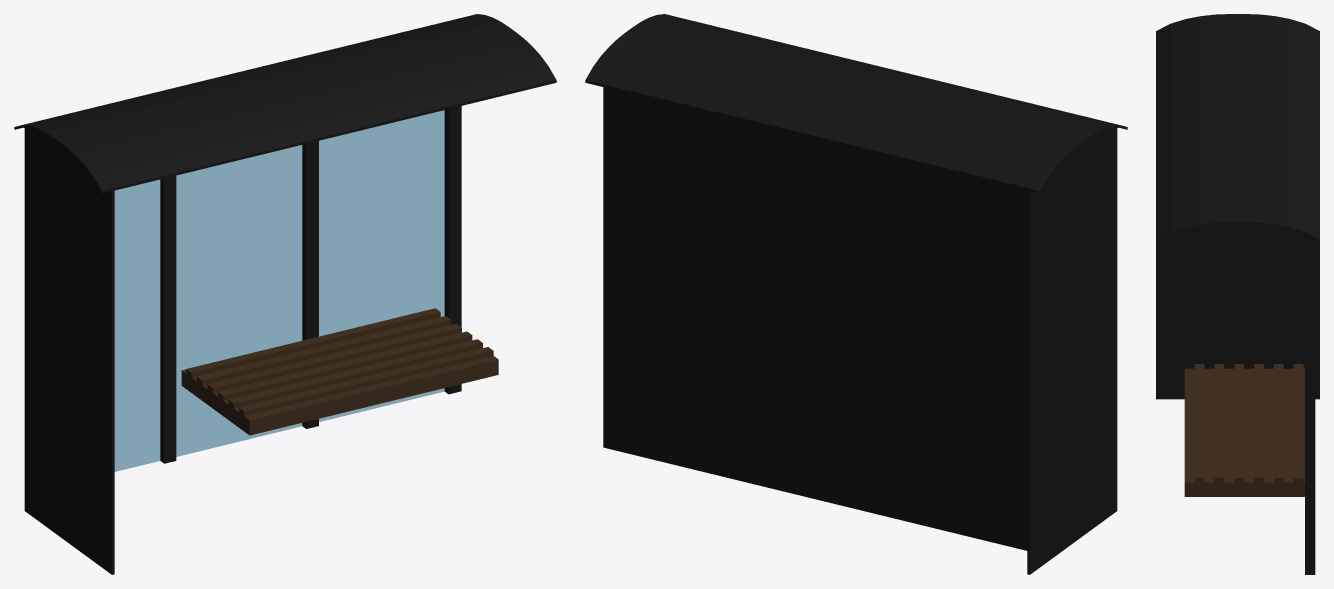
The model's file is BusStation.fbx.
The picture shows the model from 3 angles, left to right: view 1: azimuth 30°, elevation 25°; view 2: azimuth 150°, elevation 25°; view 3: azimuth 270°, elevation 25°; orthographic projection. The views are drawn at different scales.
Visible parts, largest first — view 1: Plane.001, Plane.002, Plane, Cube.004; view 2: Plane.001, Plane.002, Plane; view 3: Plane.002, Plane, Cube.004, Plane.001.
Part boxes in pixels (x1=…): Plane.001: x1=114, y1=106, x2=461, y2=471; Plane.002: x1=14, y1=14, x2=556, y2=193; Plane: x1=24, y1=128, x2=114, y2=574; Cube.004: x1=181, y1=308, x2=498, y2=435; Plane.001: x1=603, y1=87, x2=1027, y2=550; Plane.002: x1=585, y1=14, x2=1127, y2=193; Plane: x1=1027, y1=128, x2=1117, y2=574; Plane.002: x1=1156, y1=14, x2=1319, y2=241; Plane: x1=1156, y1=224, x2=1319, y2=399; Cube.004: x1=1184, y1=364, x2=1304, y2=496; Plane.001: x1=1305, y1=234, x2=1315, y2=574.
Bounding box in the file's own units: 706 × 600 × 235.
